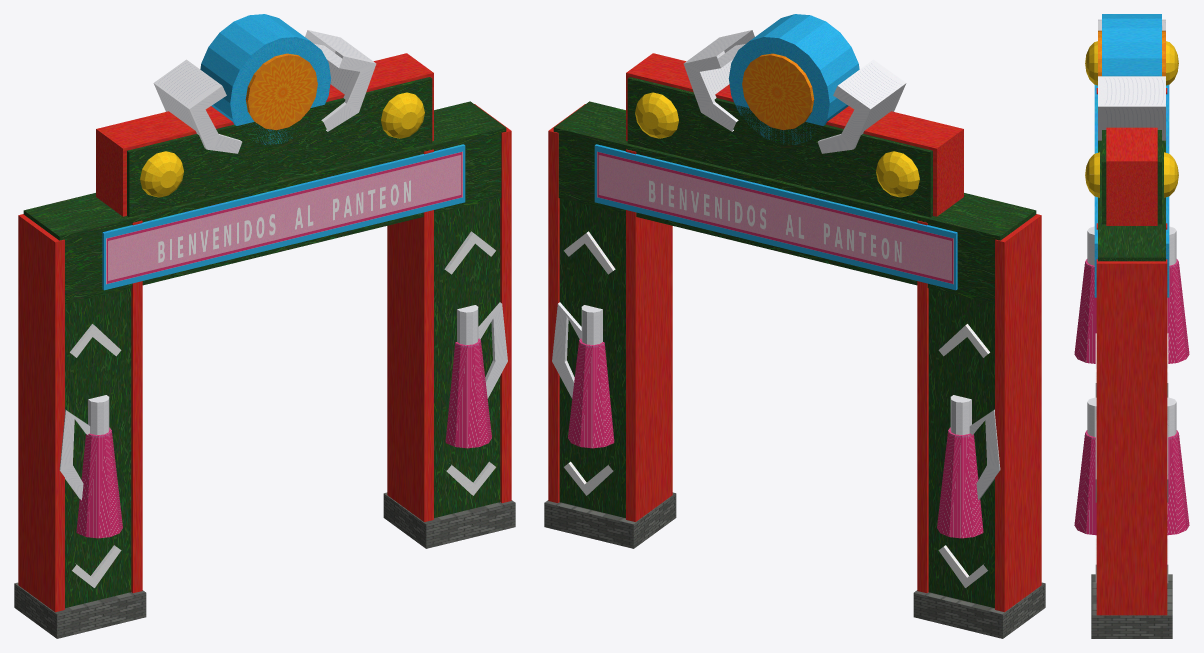
File: portal_bienvenidos.obj
3 views of the same model, side by side, from view 1: azimuth 30°, elevation 25°; view 2: azimuth 150°, elevation 25°; view 3: azimuth 270°, elevation 25° (orthographic). The views are drawn at different scales.
Visible parts, largest first — view 1: portal_bienvenidos; view 2: portal_bienvenidos; view 3: portal_bienvenidos.
Boxes of the visible parts, left/top/right/bottom form: portal_bienvenidos: left=14, top=14, right=515, bottom=638; portal_bienvenidos: left=544, top=14, right=1045, bottom=638; portal_bienvenidos: left=1074, top=14, right=1189, bottom=638.
Bounding box in the file's own units: 2.36 × 2.66 × 0.54.
Materials: 1 (1 with a texture image).
